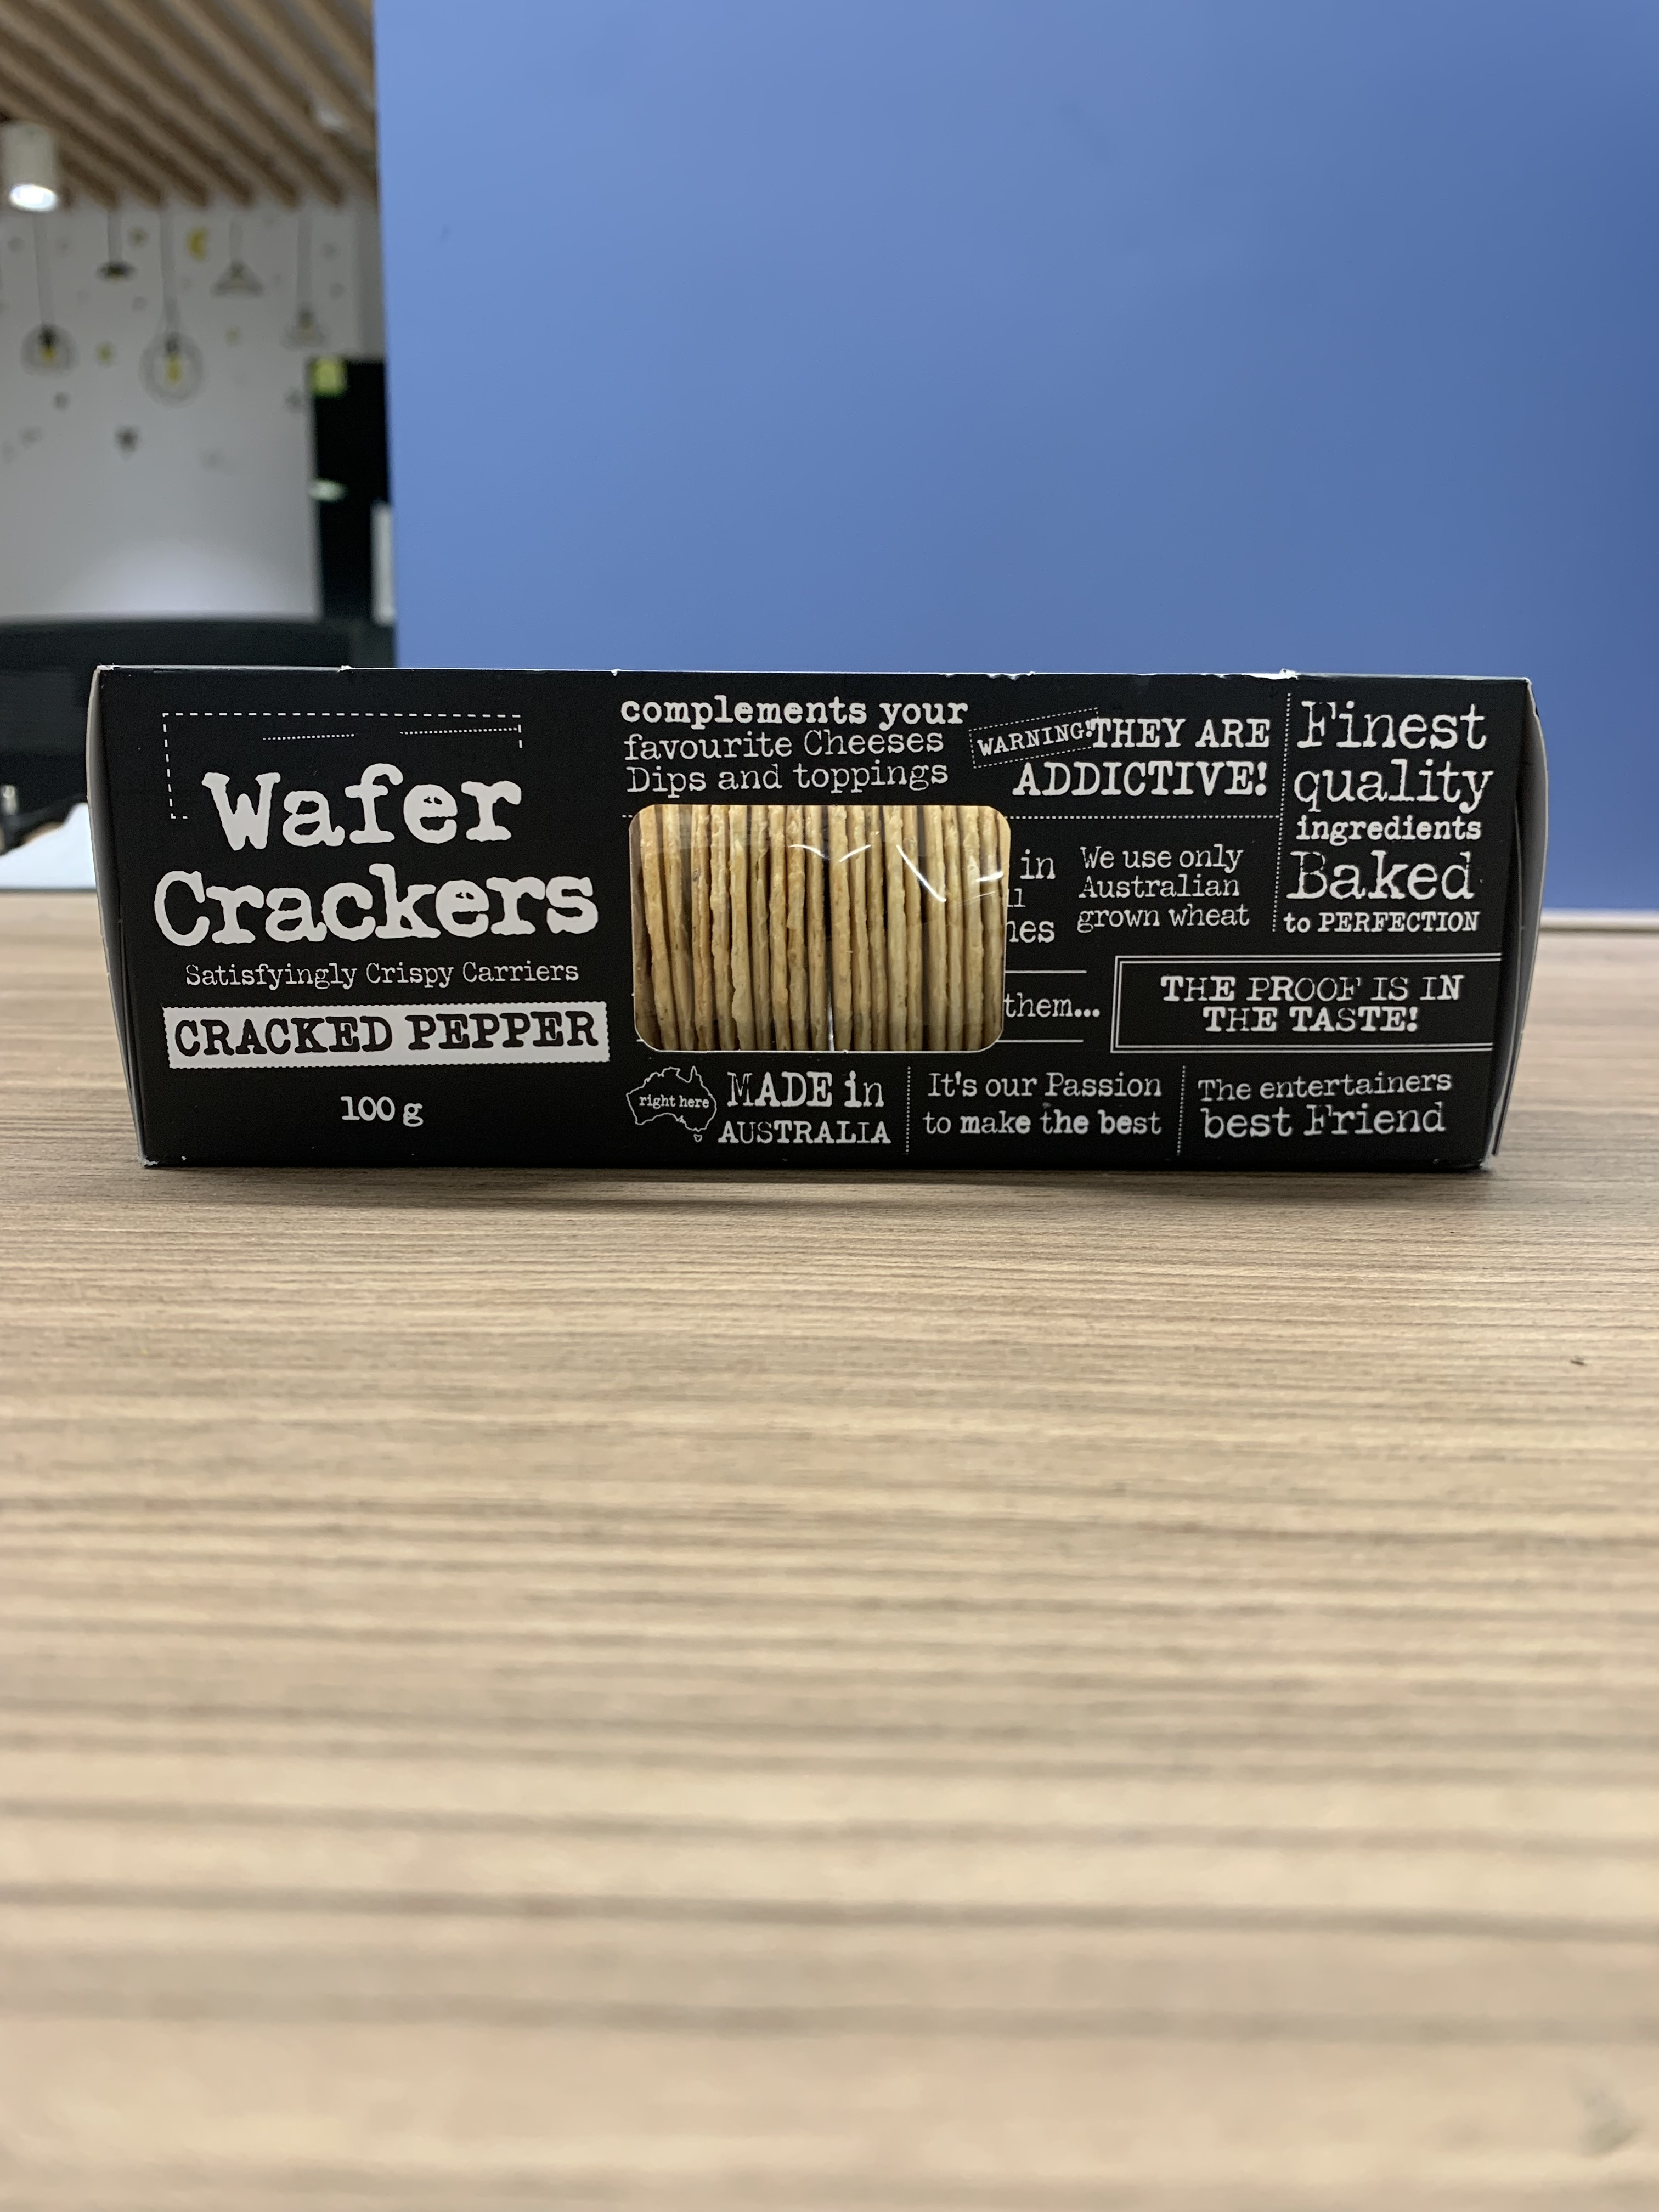crackers_100g-199g: (129, 671, 1490, 1151)
